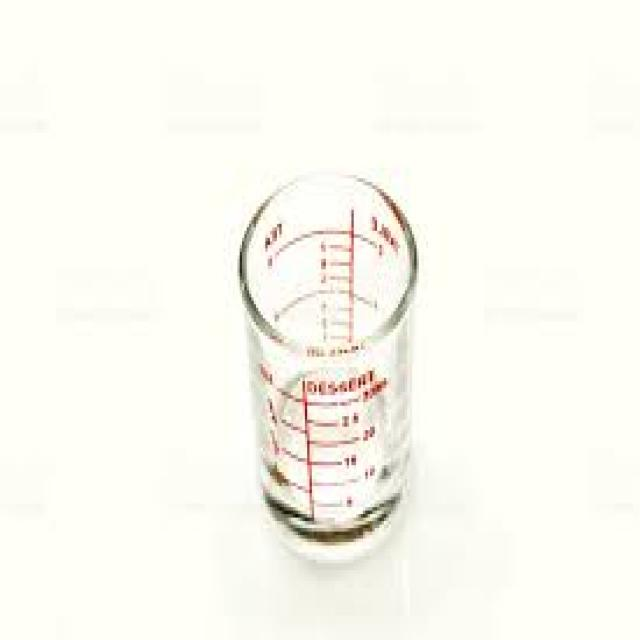glass: (238, 168, 415, 542)
